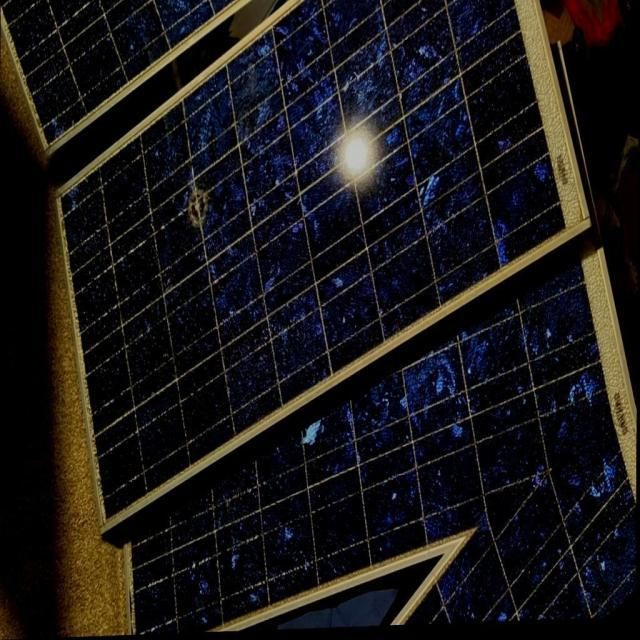cracked: (10, 1, 587, 488), (90, 338, 634, 628), (4, 0, 238, 144)
